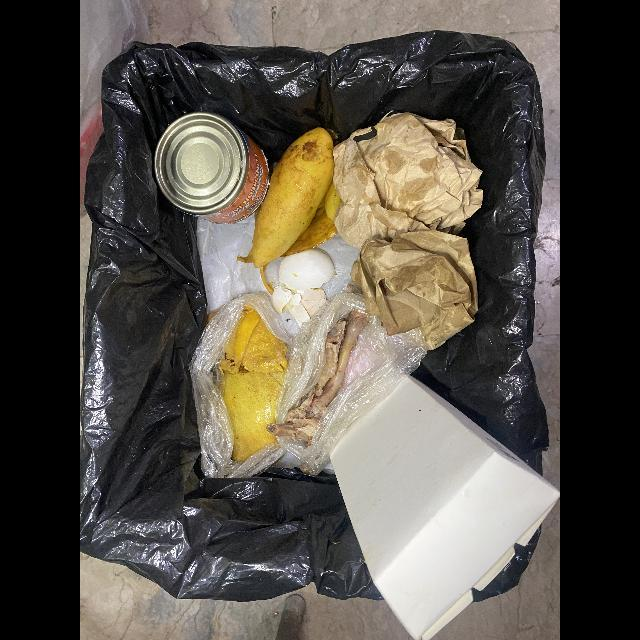biowaste: (238, 127, 343, 295), (266, 311, 373, 442), (212, 306, 288, 462), (272, 248, 336, 327)
metal: (153, 113, 271, 225)
paper: (330, 376, 560, 640), (333, 114, 485, 250), (350, 230, 480, 352)
plastic: (267, 293, 428, 477), (190, 293, 291, 482)
